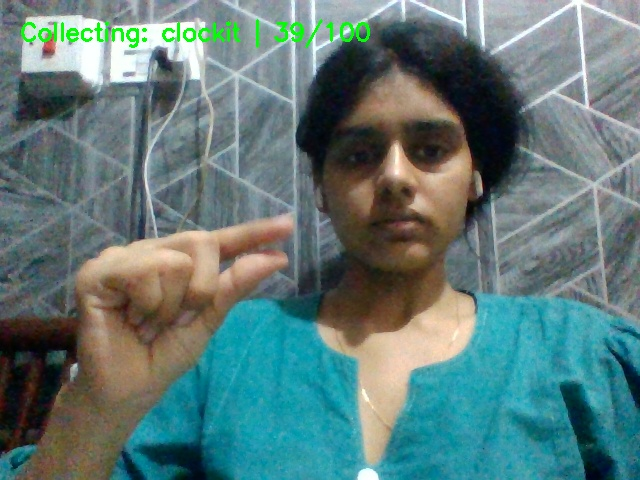clockit: (66, 202, 319, 396)
